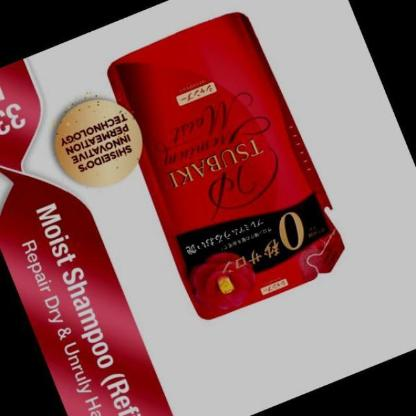Plastic Bag: (104, 11, 346, 321)
